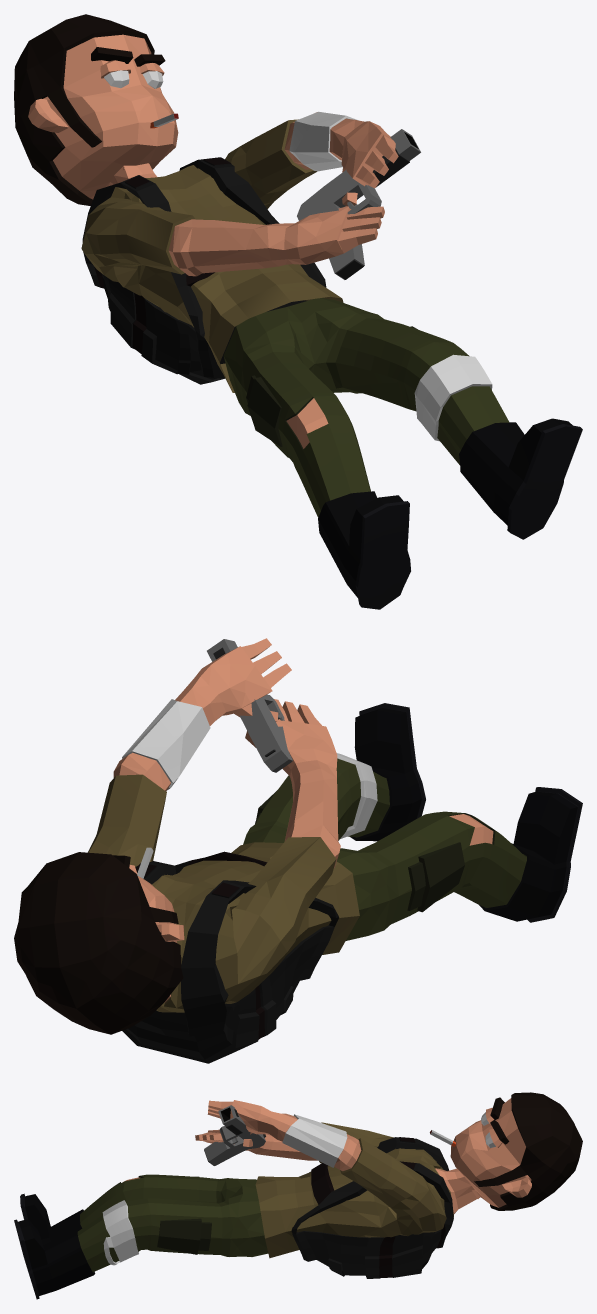
File: frame_0116.obj
3 renders of one model, top to bottom at view 1: azimuth 30°, elevation 25°; view 2: azimuth 150°, elevation 25°; view 3: azimuth 270°, elevation 25°, orthographic. The views are drawn at different scales.
Parts seen in each view (by area): view 1: Body, Gun; view 2: Body, Gun; view 3: Body, Gun.
Boxes of the visible parts, x1,y1,x2,y2 form: Body: (14,14,582,609); Gun: (297,129,420,279); Body: (14,638,582,1063); Gun: (207,639,292,772); Body: (14,1092,582,1299); Gun: (204,1105,265,1165).
Bounding box in the file's own units: 1.22 × 1.83 × 4.14.
